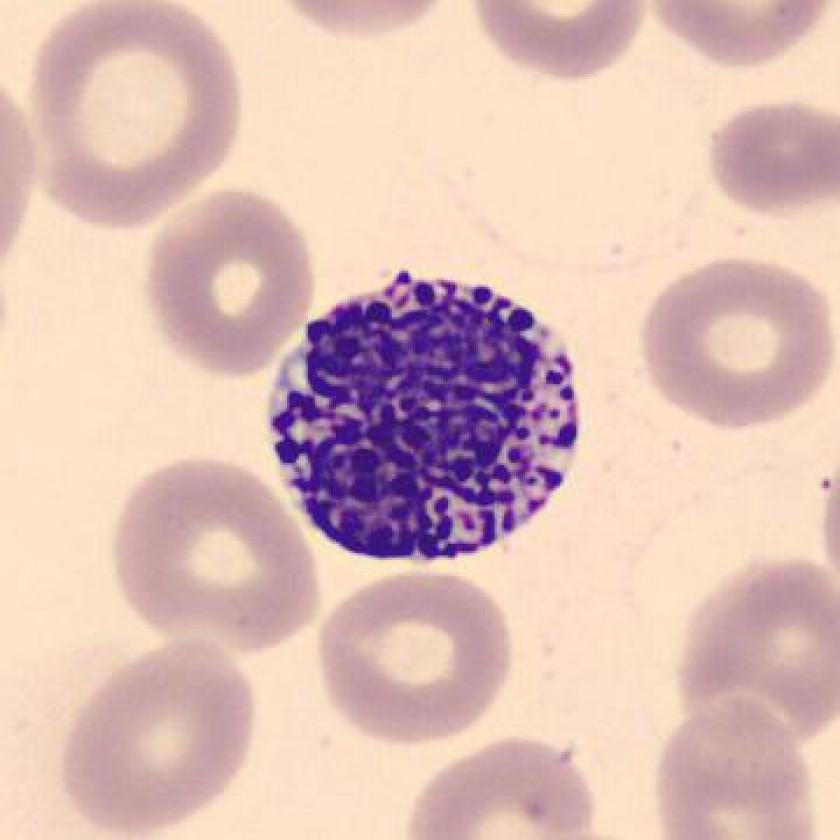basophil: (258, 265, 605, 566)
